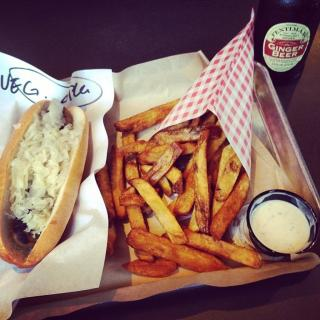French fries: (94, 93, 262, 276)
